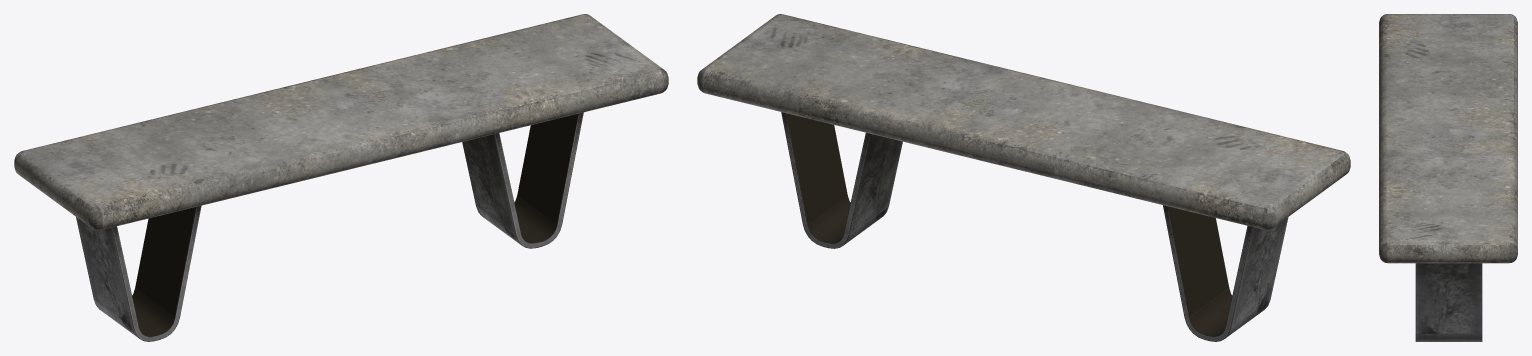
3 views of the same model, side by side, from view 1: azimuth 30°, elevation 25°; view 2: azimuth 150°, elevation 25°; view 3: azimuth 270°, elevation 25° (orthographic). The views are drawn at different scales.
Parts seen in each view (by area): view 1: Extrude_1; view 2: Extrude_1; view 3: Extrude_1.
Part boxes in pixels (x1,y1,x2,y2): Extrude_1: (14, 14, 668, 341); Extrude_1: (697, 14, 1350, 341); Extrude_1: (1379, 14, 1517, 341).
Size of the model in its own units: 2 by 0.5495 by 0.5.
Materials: 1 (1 with a texture image).
